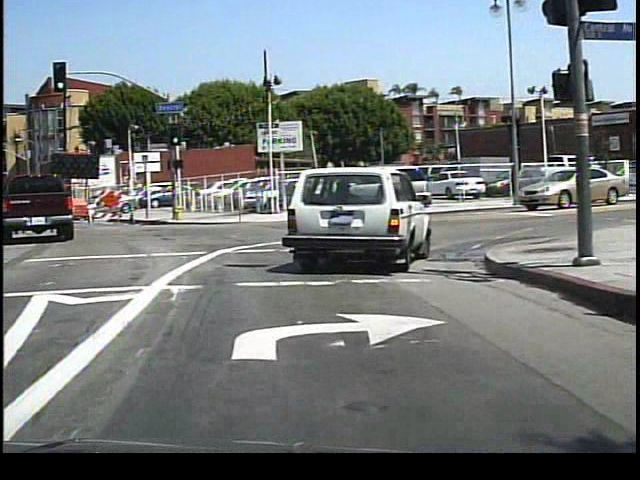person: (504, 161, 524, 204)
